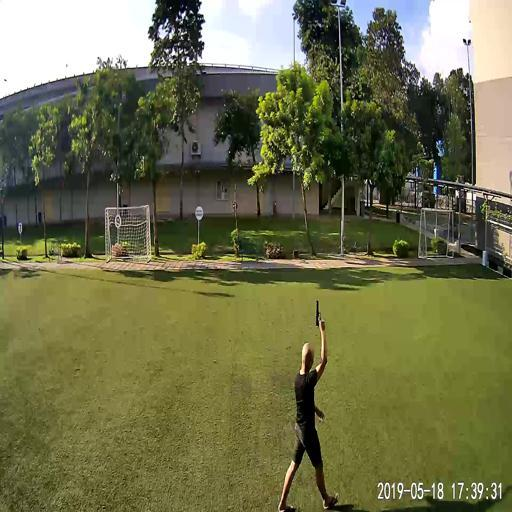Handgun: (313, 297, 321, 326)
